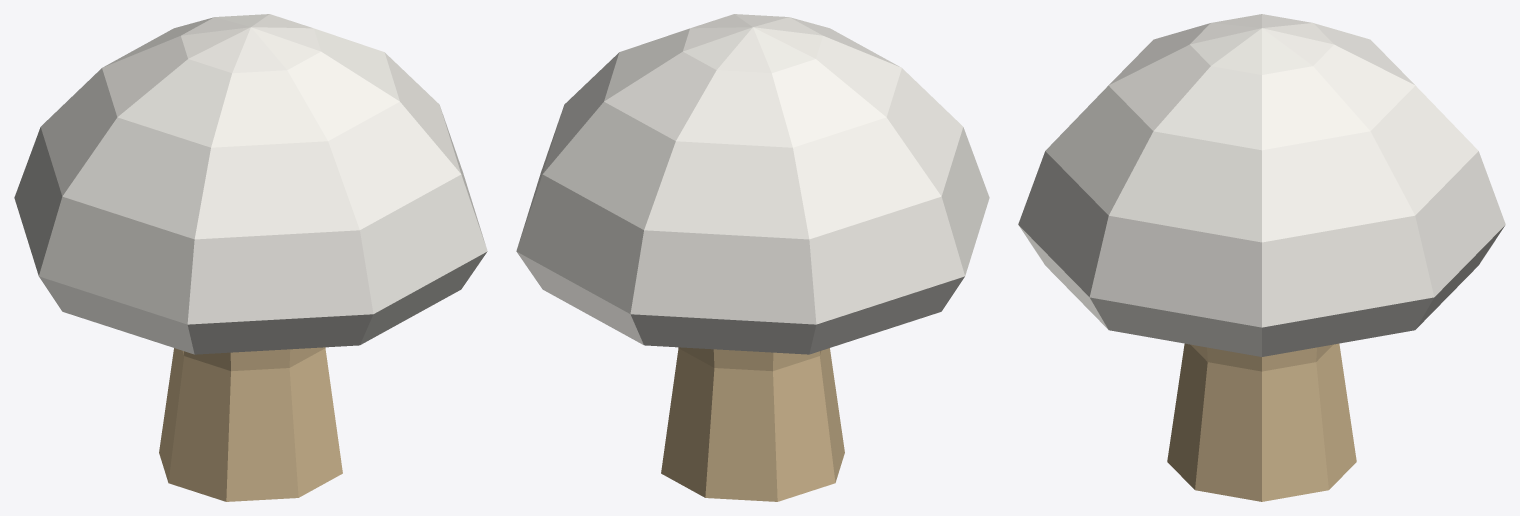
File: deco_mushroom_white.obj
3 views of the same model, side by side, from view 1: azimuth 30°, elevation 25°; view 2: azimuth 150°, elevation 25°; view 3: azimuth 270°, elevation 25° (orthographic).
Parts seen in each view (by area): view 1: deco_mushroom_white; view 2: deco_mushroom_white; view 3: deco_mushroom_white.
Boxes of the visible parts, x1,y1,x2,y2 form: deco_mushroom_white: [14, 14, 487, 501]; deco_mushroom_white: [516, 14, 989, 501]; deco_mushroom_white: [1018, 14, 1505, 501].
Size of the model in its own units: 0.054 by 0.053 by 0.054.
Materials: 1 (1 with a texture image).
